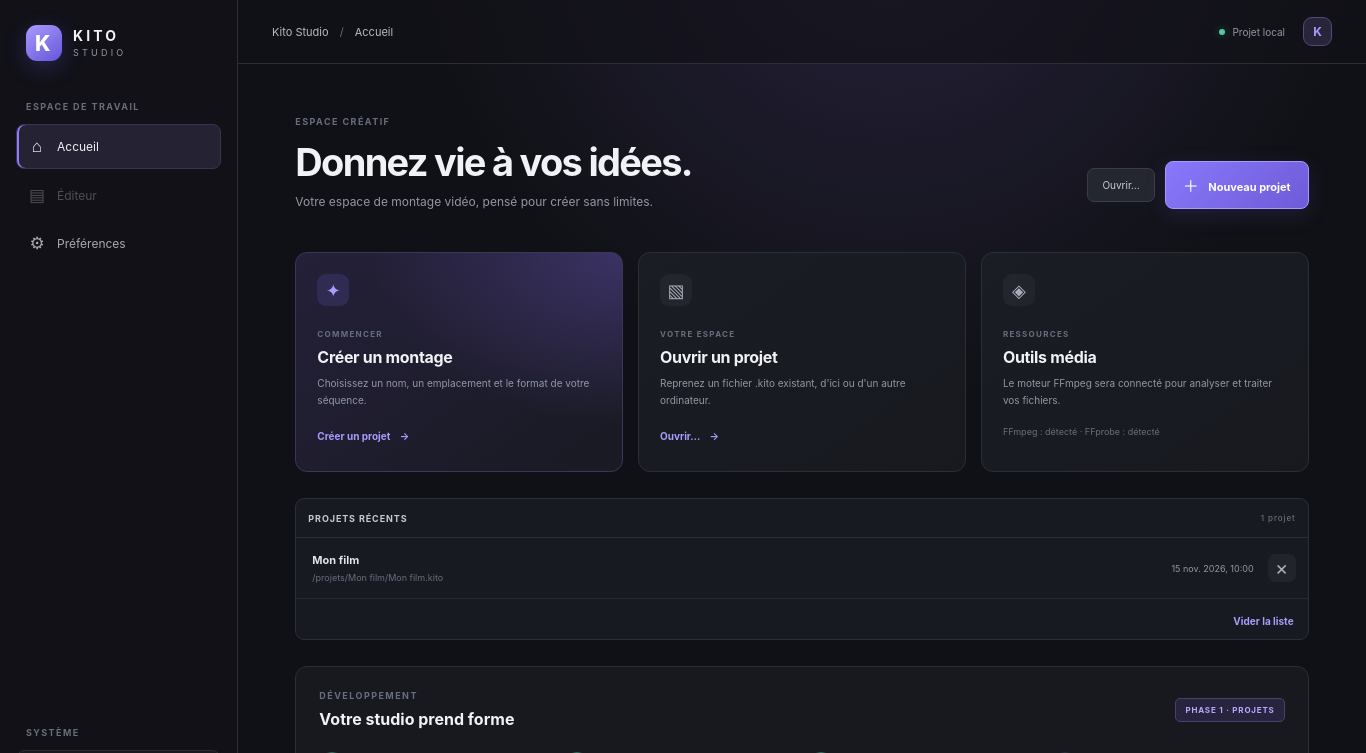
Test: ouverture › explique un fichier invalide et propose les copies de récupération
This screenshot has width=1366, height=753.
Click the text "Mon film" at (336, 560), box [312,553,359,567]
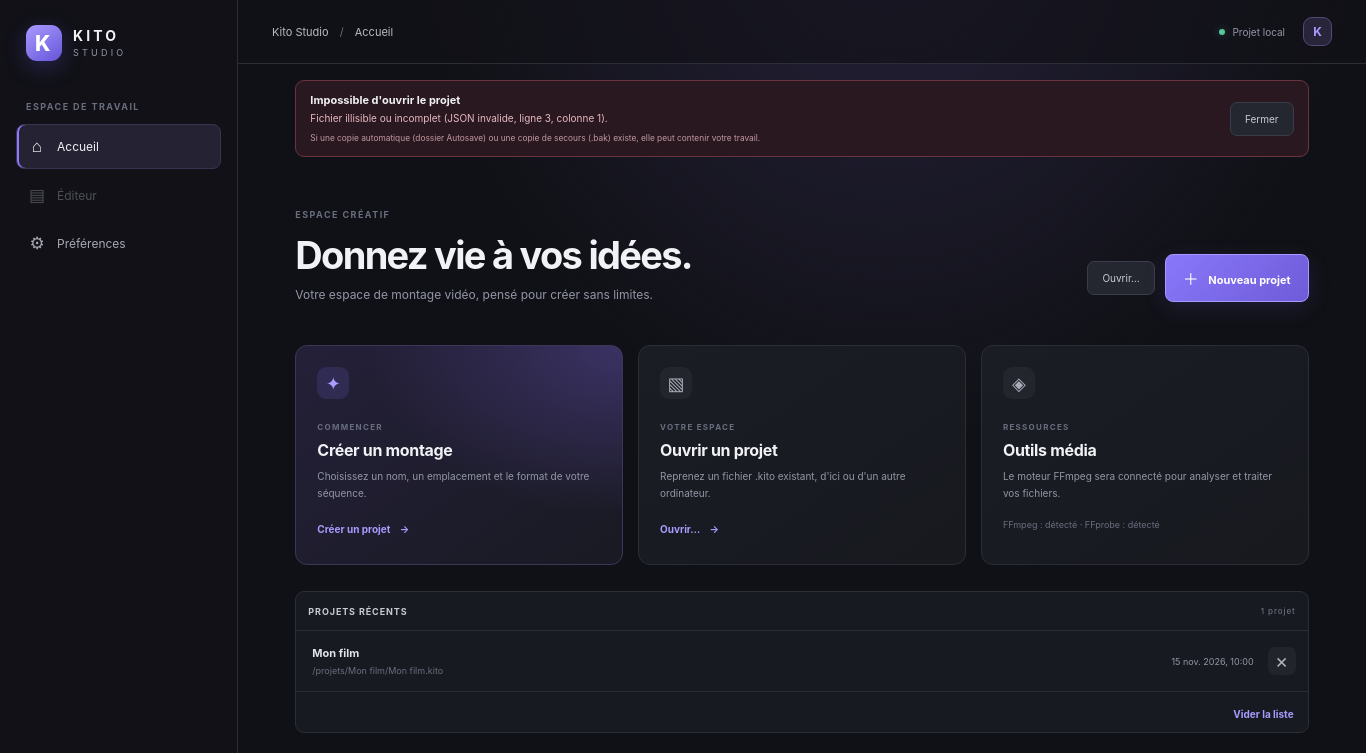
expect the heading "Donnez vie à vos idées." is shown: met, box [295,232,692,278]
expect the message shows "Impossible d'ouvrir le projet": met, box [310,93,460,107]
expect the message shows "Fichier illisible ou incomplet": met, box [310,112,608,124]
